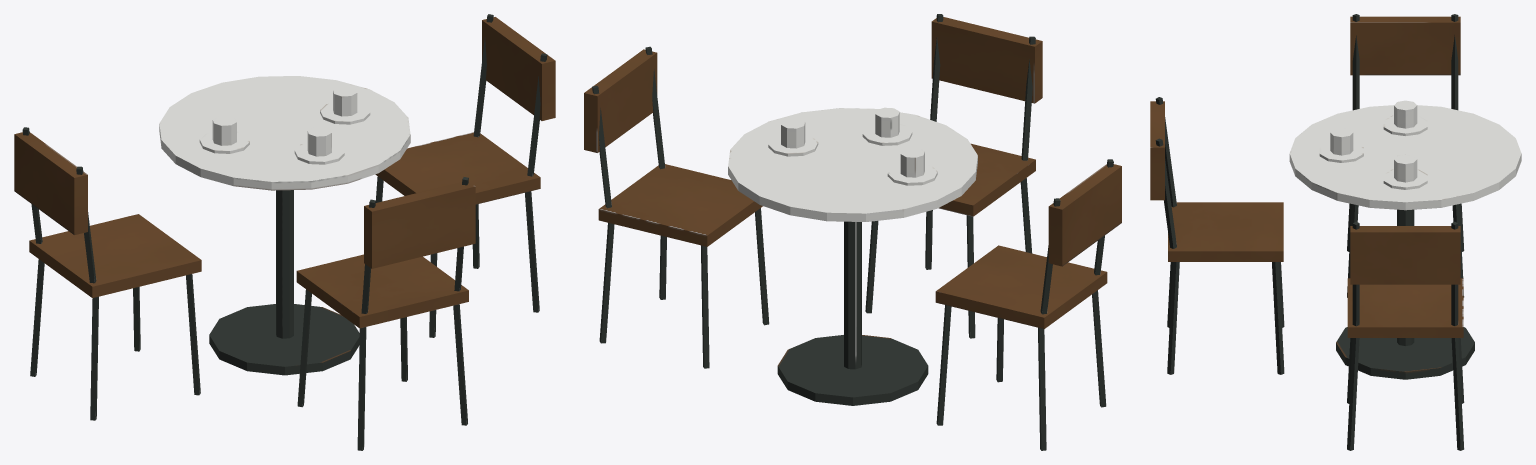
Rendered from stolek_kavarna_cfed3188.glb.
3 views of the same model, side by side, from view 1: azimuth 30°, elevation 25°; view 2: azimuth 150°, elevation 25°; view 3: azimuth 270°, elevation 25° (orthographic). The views are drawn at different scales.
Parts seen in each view (by area): view 1: dum; view 2: dum; view 3: dum.
Part boxes in pixels (x1,y1,x2,y2): dum: (14, 14, 555, 450); dum: (584, 14, 1121, 450); dum: (1150, 14, 1521, 450).
Bounding box in the file's own units: 1.76 × 0.8797 × 1.28.
1 material, 1 textured.
